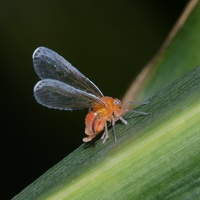insect: (32, 47, 126, 142)
